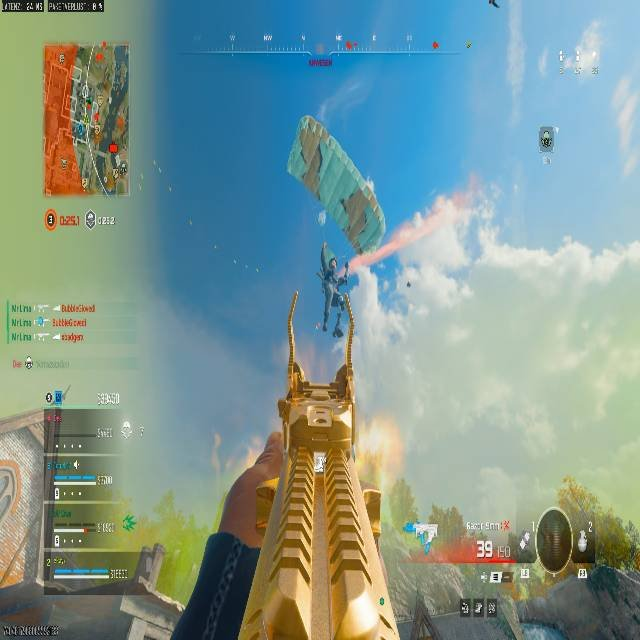player: (315, 245, 358, 336)
